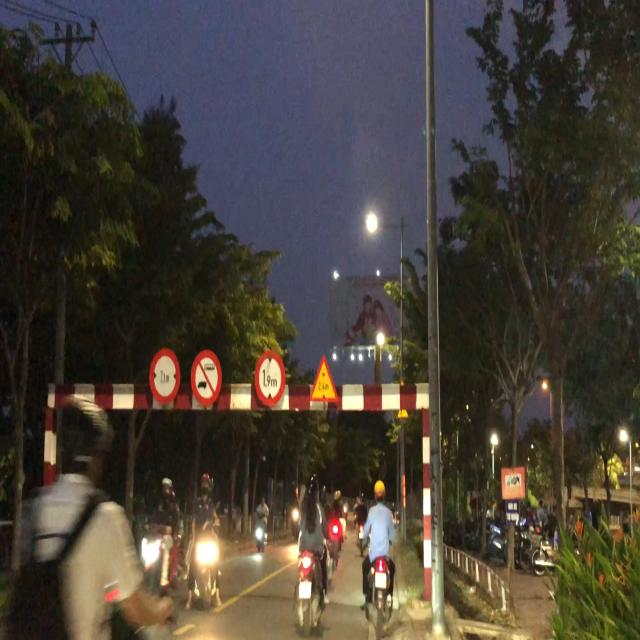Bien bao cam xe oto khach va xe oto tai: (189, 342, 223, 408)
Bien bao chieu cao tinh khong thuc te: (308, 352, 341, 408)
Bien bao han che chieu cao: (254, 346, 288, 411)
